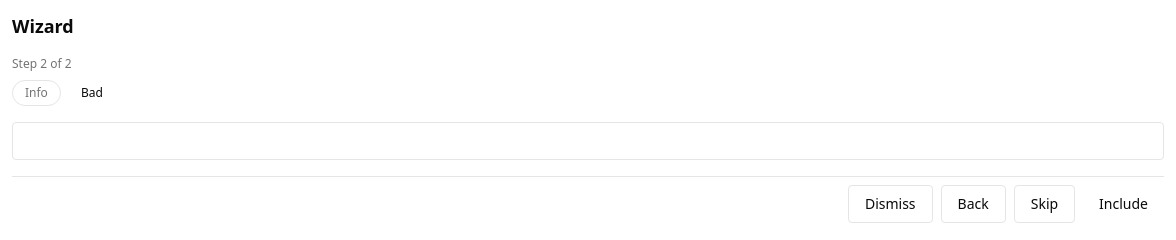
Test: Wizard validation gate › backward chip-jump never validates — works even with invalid fields on the active step
Expected: the text "Step 2 of 2" is shown, [12,55,72,72]
Step 1. Click the button "Info" → (36, 93), box [12,80,61,106]
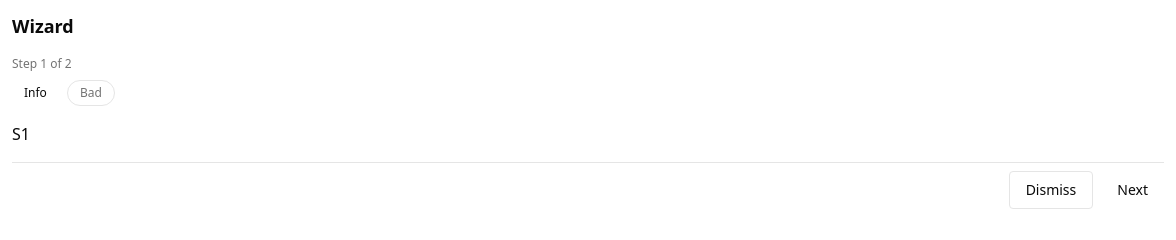
Now the text "Step 1 of 2" is shown, box [12,55,72,72]
